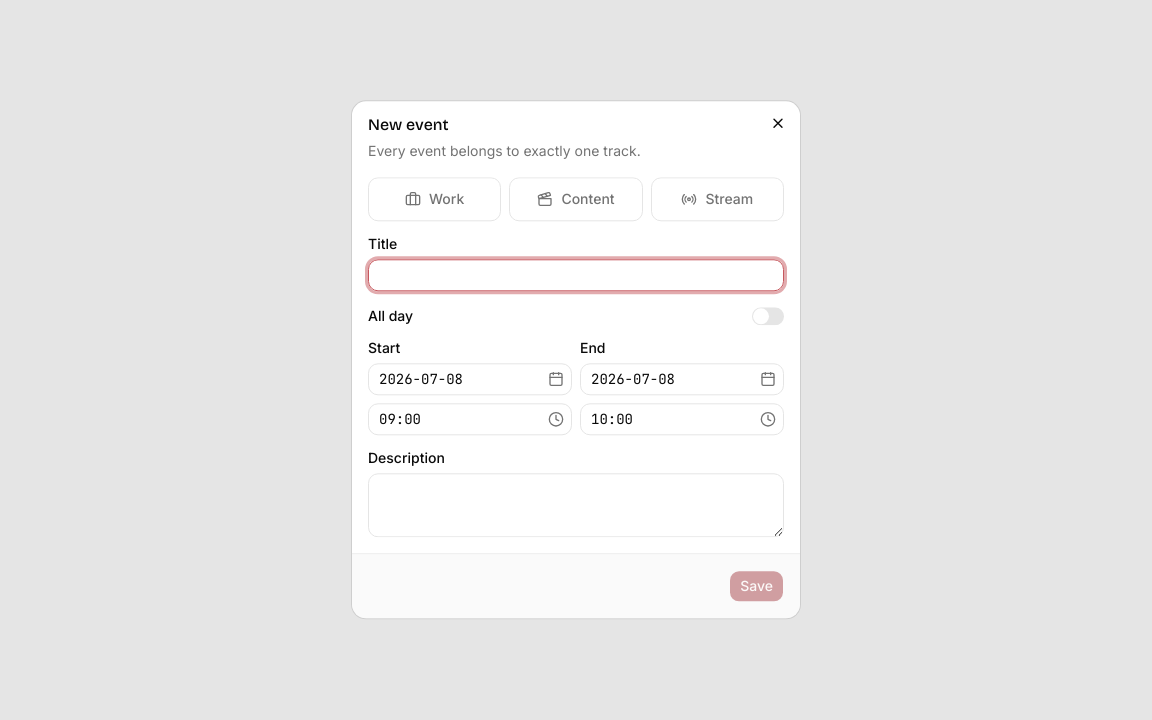
Test: EventEditor — single-day content kinds › leaves a span that already fits the day untouched
Click the radio button labelled "Content": click(576, 199) [509,177,643,221]
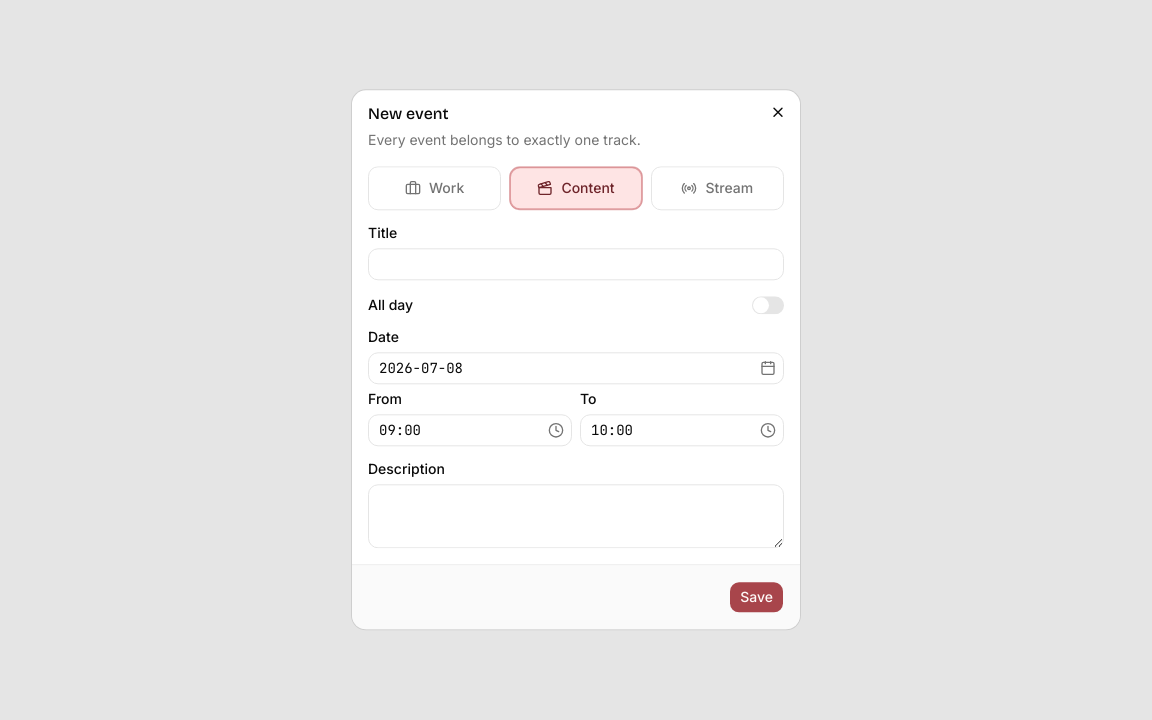
Expected: the field named "End time" holds "10:00", [581,415,756,447]
Now the field named "Start time" holds "09:00", box [369,415,544,447]
